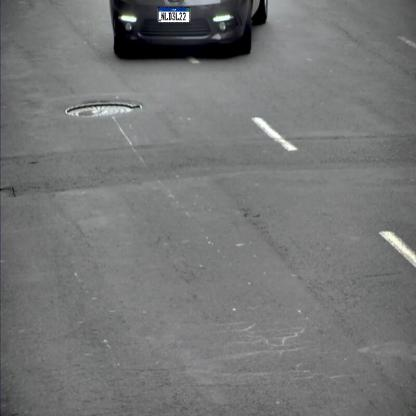PlacaM: (158, 7, 190, 23)
